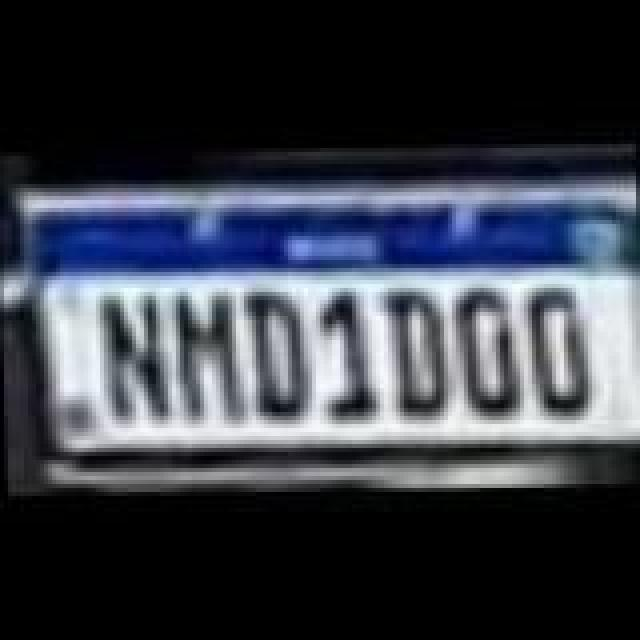1: (310, 284, 382, 420)
D: (450, 284, 530, 424), (380, 280, 456, 424), (516, 280, 592, 424), (248, 284, 316, 424)
M: (166, 288, 254, 424)
N: (98, 284, 170, 424)
